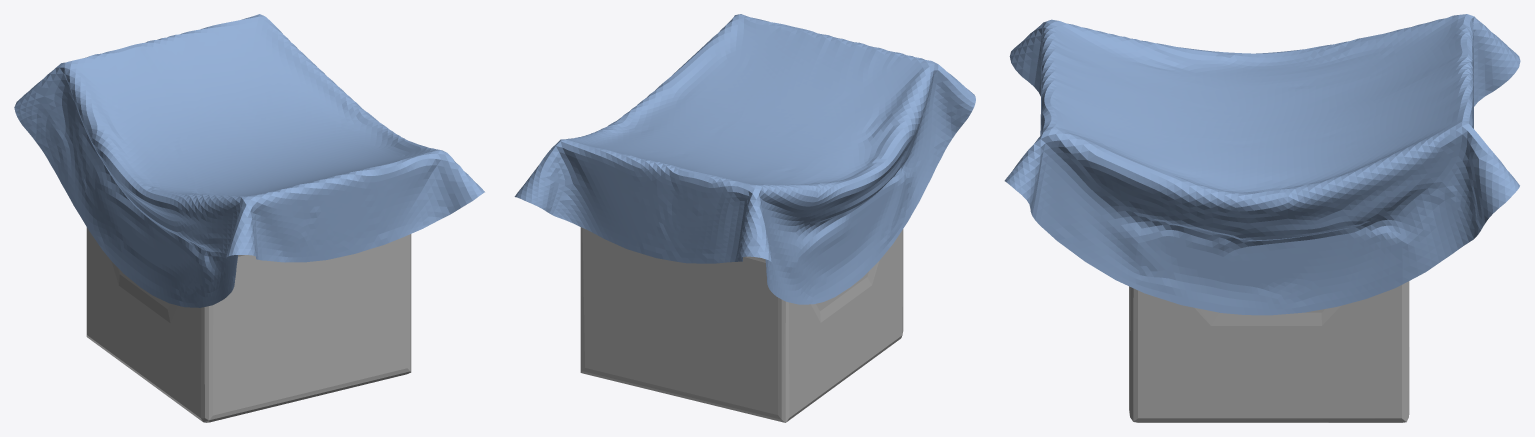
File: level_2.glb
3 renders of one model, left to right at view 1: azimuth 30°, elevation 25°; view 2: azimuth 150°, elevation 25°; view 3: azimuth 270°, elevation 25°, orthographic. The views are drawn at different scales.
Visible parts, largest first — view 1: world, object.obj; view 2: world, object.obj; view 3: world, object.obj.
Part boxes in pixels (<box>): world: <box>14,14,484,307</box>; object.obj: <box>86,227,411,422</box>; world: <box>514,14,975,304</box>; object.obj: <box>580,227,903,422</box>; world: <box>1004,14,1520,315</box>; object.obj: <box>1129,281,1409,422</box>.
Size of the model in its own units: 0.3153 by 0.2968 by 0.4656.
